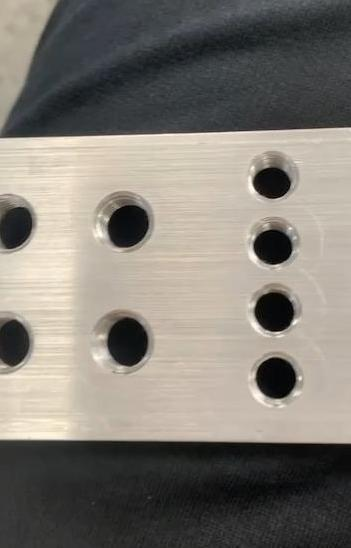hole: (88, 307, 154, 377), (89, 190, 155, 256), (246, 348, 310, 410), (244, 217, 302, 269), (246, 284, 302, 337), (243, 150, 298, 201), (0, 192, 37, 255), (0, 310, 33, 377)
